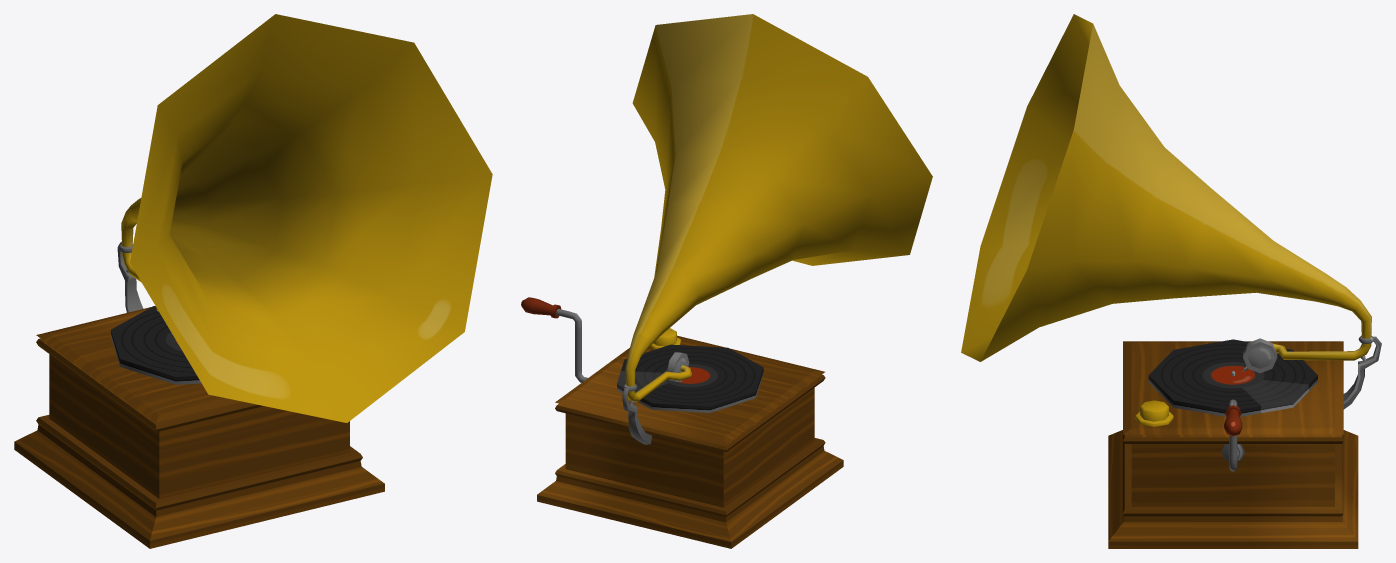
Rendered from Gramophone.fbx.
3 renders of one model, left to right at view 1: azimuth 30°, elevation 25°; view 2: azimuth 150°, elevation 25°; view 3: azimuth 270°, elevation 25°, orthographic. The views are drawn at different scales.
Parts seen in each view (by area): view 1: Gramophone; view 2: Gramophone; view 3: Gramophone.
Boxes of the visible parts, x1,y1,x2,y2 form: Gramophone: (14,14,492,548); Gramophone: (521,14,932,548); Gramophone: (961,14,1381,548).
Bounding box in the file's own units: 84.77 × 108 × 87.04.
Materials: 1 (1 with a texture image).
